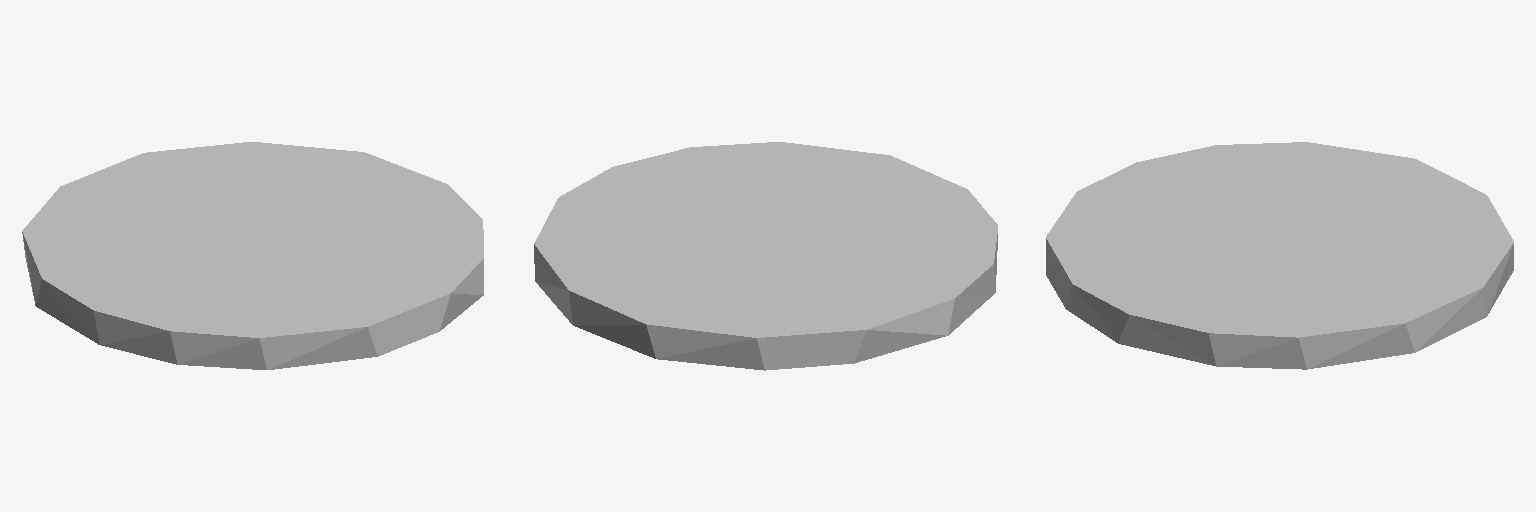
Rendered from coin.obj.
The picture shows the model from 3 angles: view 1: azimuth 30°, elevation 25°; view 2: azimuth 150°, elevation 25°; view 3: azimuth 270°, elevation 25°; orthographic projection.
Parts seen in each view (by area): view 1: Cylinder; view 2: Cylinder; view 3: Cylinder.
Part boxes in pixels (x1,y1,x2,y2): Cylinder: (22, 142, 483, 369); Cylinder: (534, 142, 997, 370); Cylinder: (1046, 142, 1513, 369).
Bounding box in the file's own units: 2 × 0.1542 × 2.02.